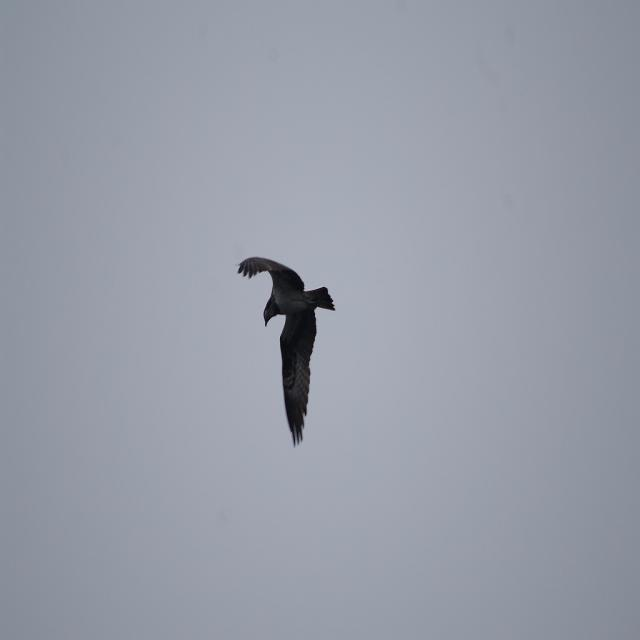bird: (236, 260, 342, 452)
